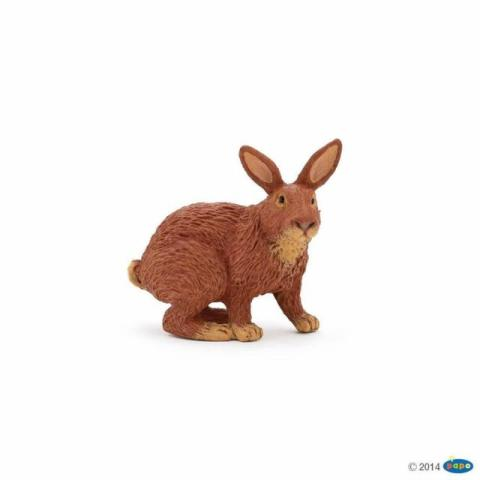small_animal: (126, 137, 344, 344)
